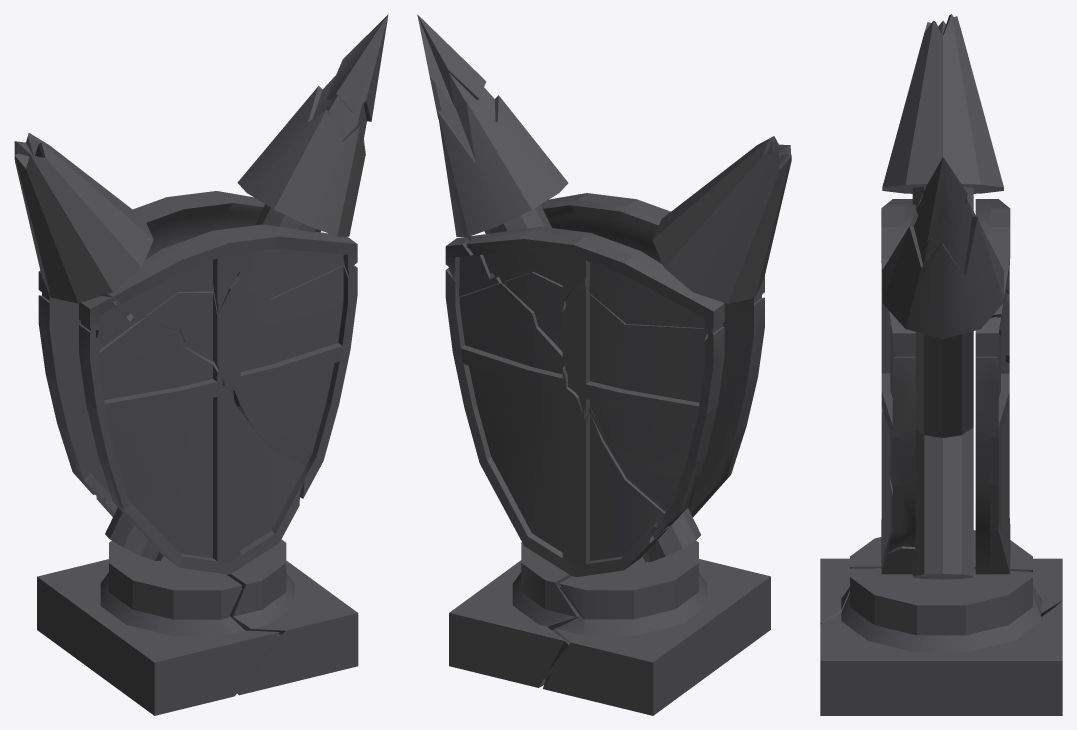
The model's file is Estatua rota como mi kokoro.fbx.
The picture shows the model from 3 angles, left to right: view 1: azimuth 30°, elevation 25°; view 2: azimuth 150°, elevation 25°; view 3: azimuth 270°, elevation 25°; orthographic projection. The views are drawn at different scales.
Visible parts, largest first — view 1: polySurface422; view 2: polySurface422; view 3: polySurface422.
Part boxes in pixels (<box>): polySurface422: <box>14,14,388,715</box>; polySurface422: <box>417,14,791,715</box>; polySurface422: <box>820,14,1062,715</box>.
Bounding box in the file's own units: 3.67 × 5.51 × 2.
